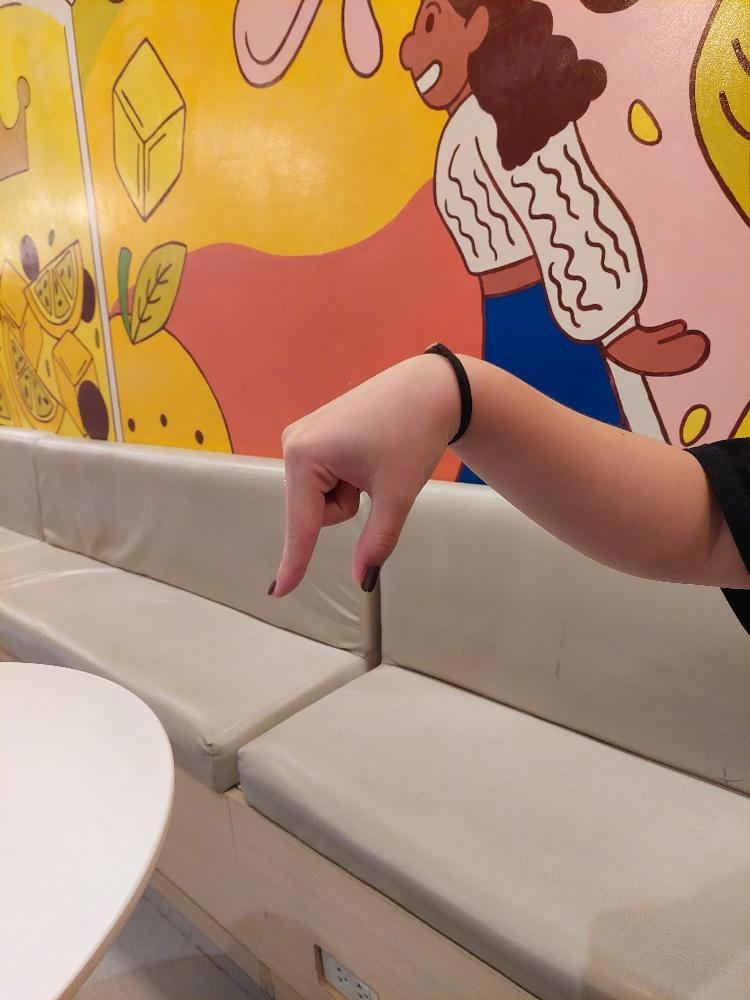q: (264, 345, 457, 600)
